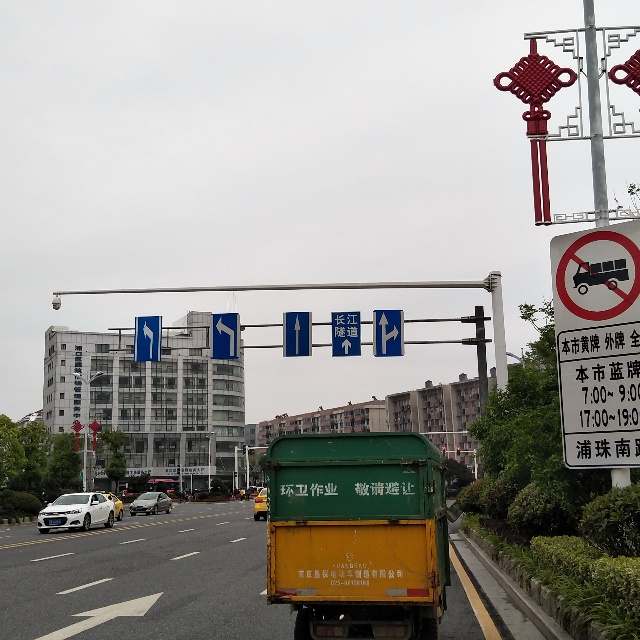left: (214, 314, 241, 359), (132, 318, 160, 360)
straight: (281, 308, 313, 357), (334, 334, 355, 355)
